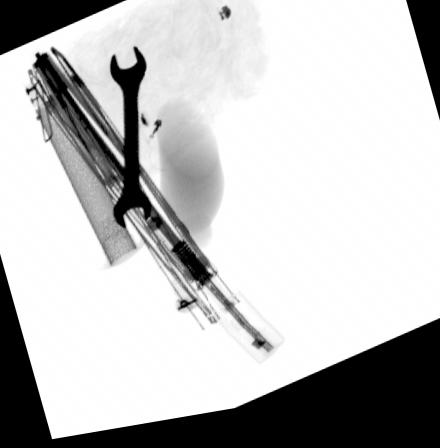Wrench: (108, 48, 152, 236)
